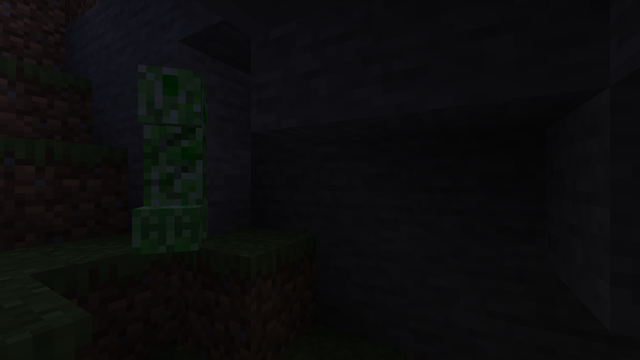creepers: (127, 50, 222, 254)
